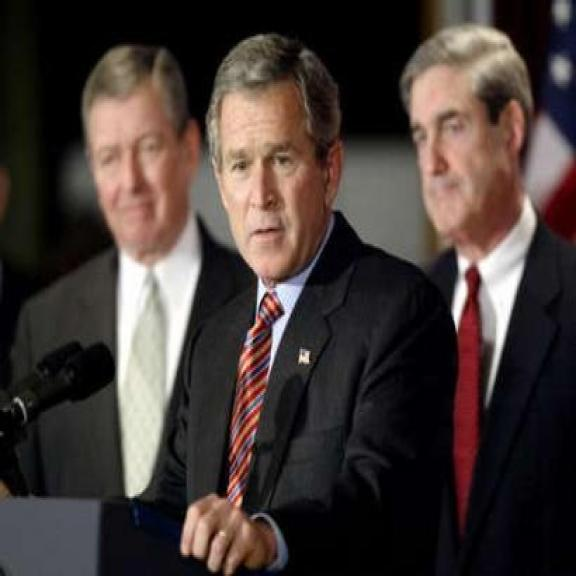face: (215, 84, 344, 280), (408, 74, 528, 237), (88, 94, 204, 253)
